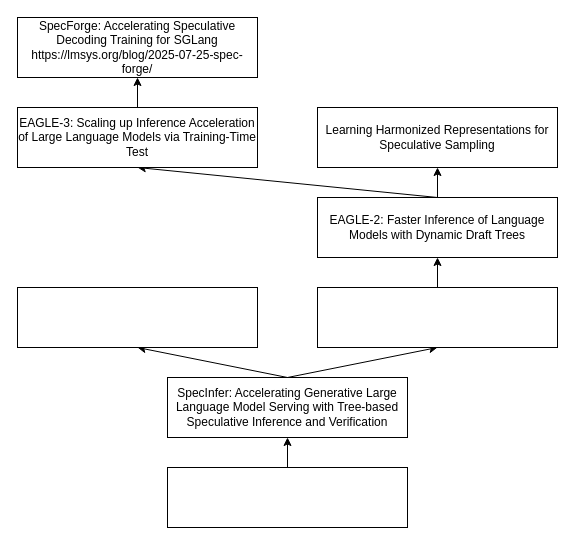
Some shapes in this 575 by 545 pixel diagram are drawn without their labels. The shapes that lost their labels are listed below. From the top down, each one's centre as x and y in pixels, then its label:
At point (137, 317): "Medusa: Simple LLM Inference Acceleration Framework with Multiple Decoding Heads".
At point (437, 317): "EAGLE: Speculative Sampling Requires Rethinking Feature Uncertainty".
At point (287, 497): "Accelerating Large Language Model Decoding with Speculative Sampling".
